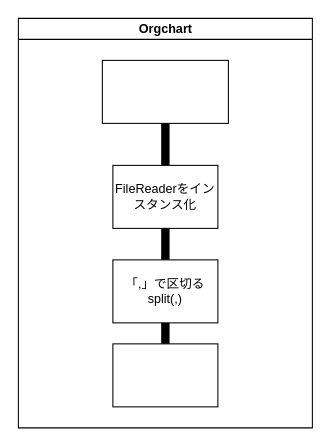
Some shapes in this 331 by 446 pixel diagram are drawn without their labels. The centre of each missing label's shape, as x and y in pixels:
CSVを入力: the point at 164,91
textListsにpush(): the point at 165,375
